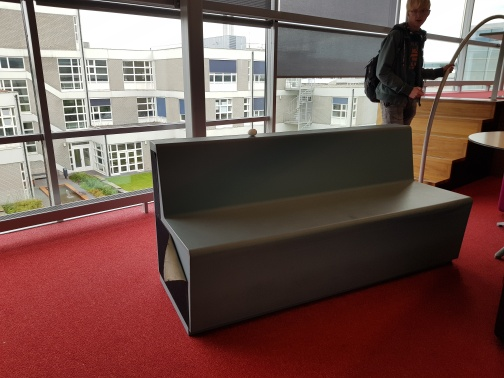egg: (246, 128, 258, 136)
